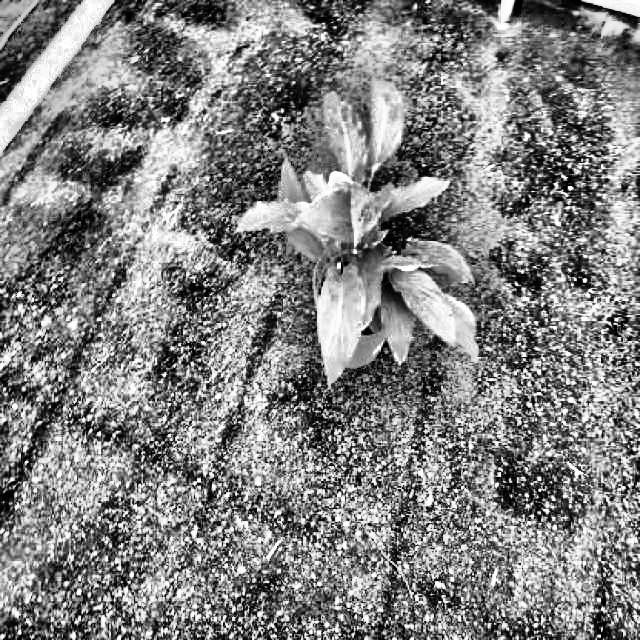plants: (236, 76, 481, 390)
